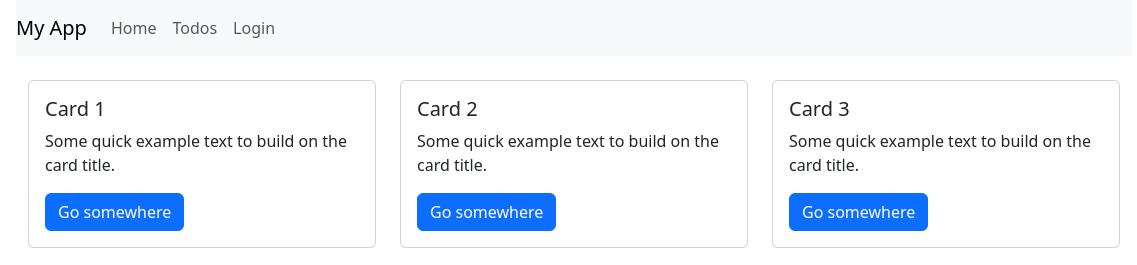
Test: Full Application Test Suite › should navigate to Todos page
Click the link "Todos" at (196, 28), box [173,17,218,39]
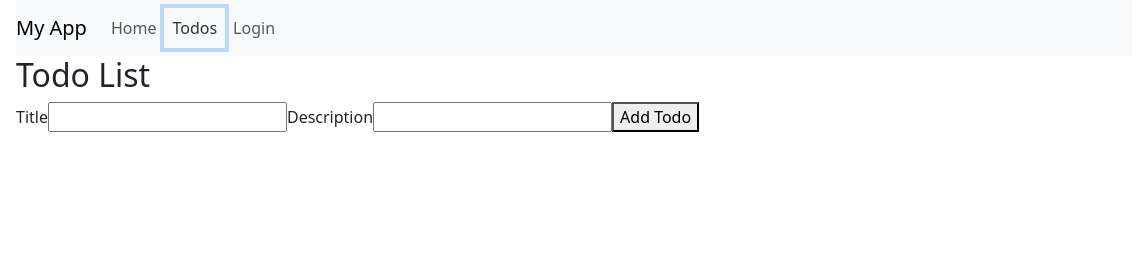
Expected: the heading "Todo List" is shown, [16,53,150,96]
